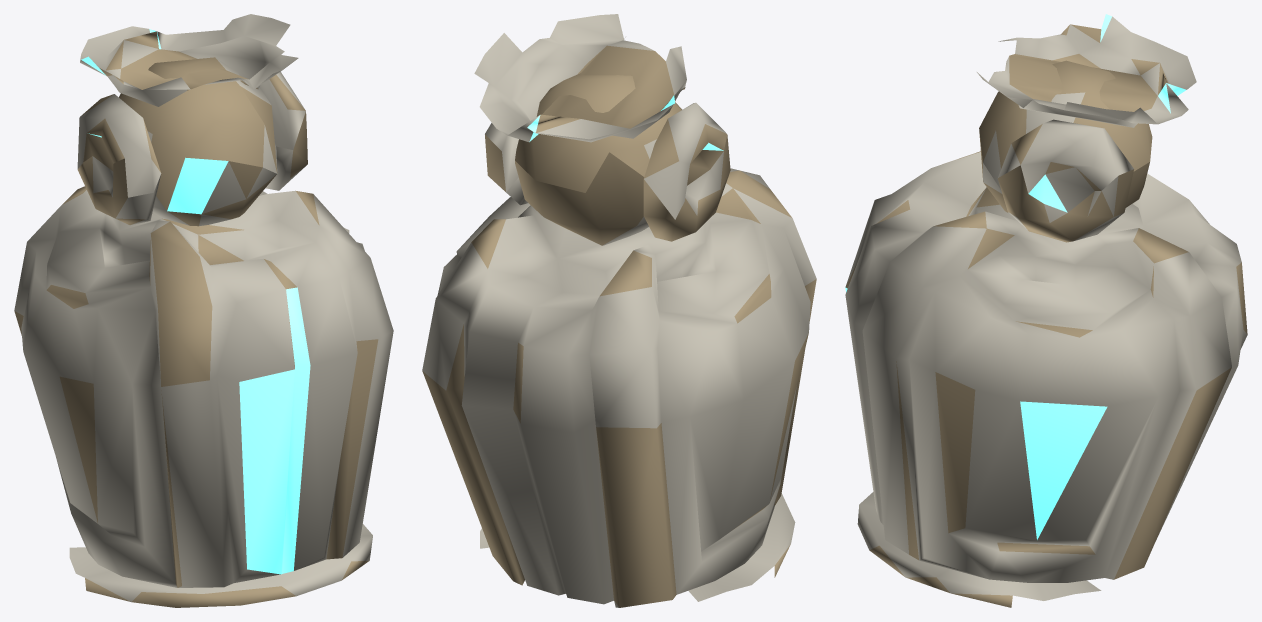
File: BossForearm.glb
The picture shows the model from 3 angles, left to right: view 1: azimuth 30°, elevation 25°; view 2: azimuth 150°, elevation 25°; view 3: azimuth 270°, elevation 25°; orthographic projection. The views are drawn at different scales.
Visible parts, largest first — view 1: BossForearm_Bend.004, PART_BossForearm.004; view 2: BossForearm_Bend.004, PART_BossForearm.004; view 3: BossForearm_Bend.004, PART_BossForearm.004.
Boxes of the visible parts, x1=… form: BossForearm_Bend.004: x1=14, y1=112, x2=393, y2=607; PART_BossForearm.004: x1=77, y1=14, x2=305, y2=210; BossForearm_Bend.004: x1=422, y1=134, x2=816, y2=607; PART_BossForearm.004: x1=474, y1=14, x2=727, y2=219; BossForearm_Bend.004: x1=845, y1=132, x2=1247, y2=607; PART_BossForearm.004: x1=977, y1=14, x2=1196, y2=212.
Size of the model in its own units: 0.7404 by 1.11 by 0.8232.
